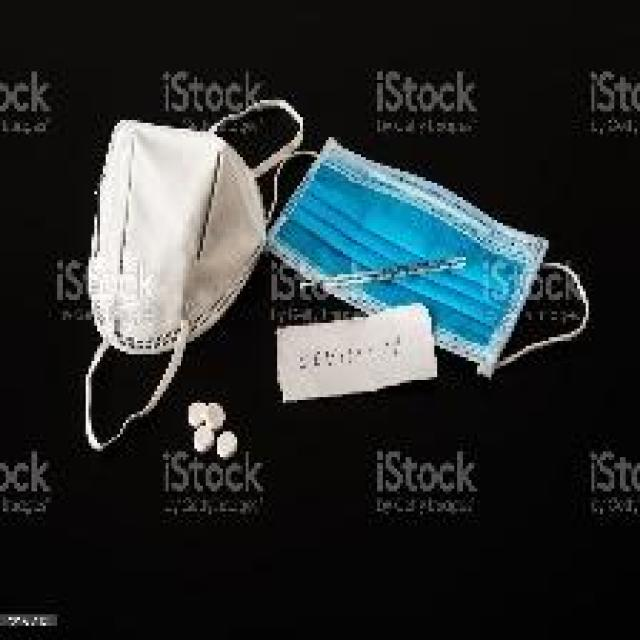Mask: (288, 126, 579, 449), (58, 105, 267, 419)
